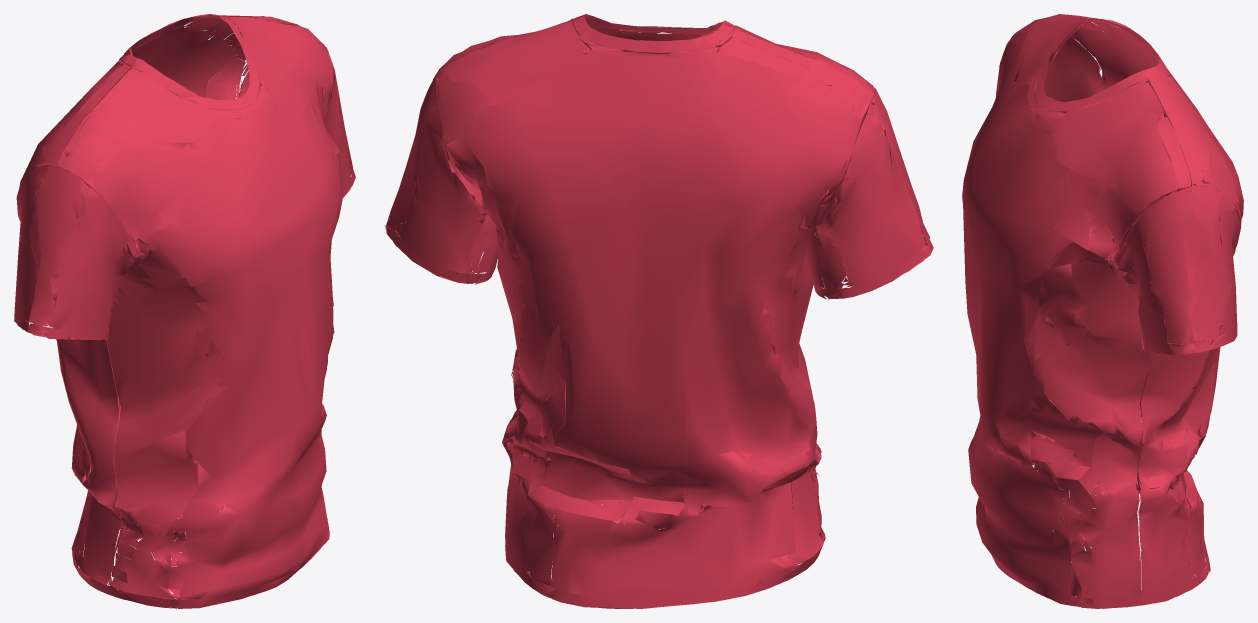
File: camiseta_america.glb
The picture shows the model from 3 angles, left to right: view 1: azimuth 30°, elevation 25°; view 2: azimuth 150°, elevation 25°; view 3: azimuth 270°, elevation 25°; orthographic projection. The views are drawn at different scales.
Parts seen in each view (by area): view 1: camiseta_america; view 2: camiseta_america; view 3: camiseta_america.
Part boxes in pixels (x1,y1,x2,y2): camiseta_america: (14, 14, 355, 608); camiseta_america: (384, 14, 933, 608); camiseta_america: (962, 14, 1243, 608).
Size of the model in its own units: 0.4192 by 0.4996 by 0.2517.
